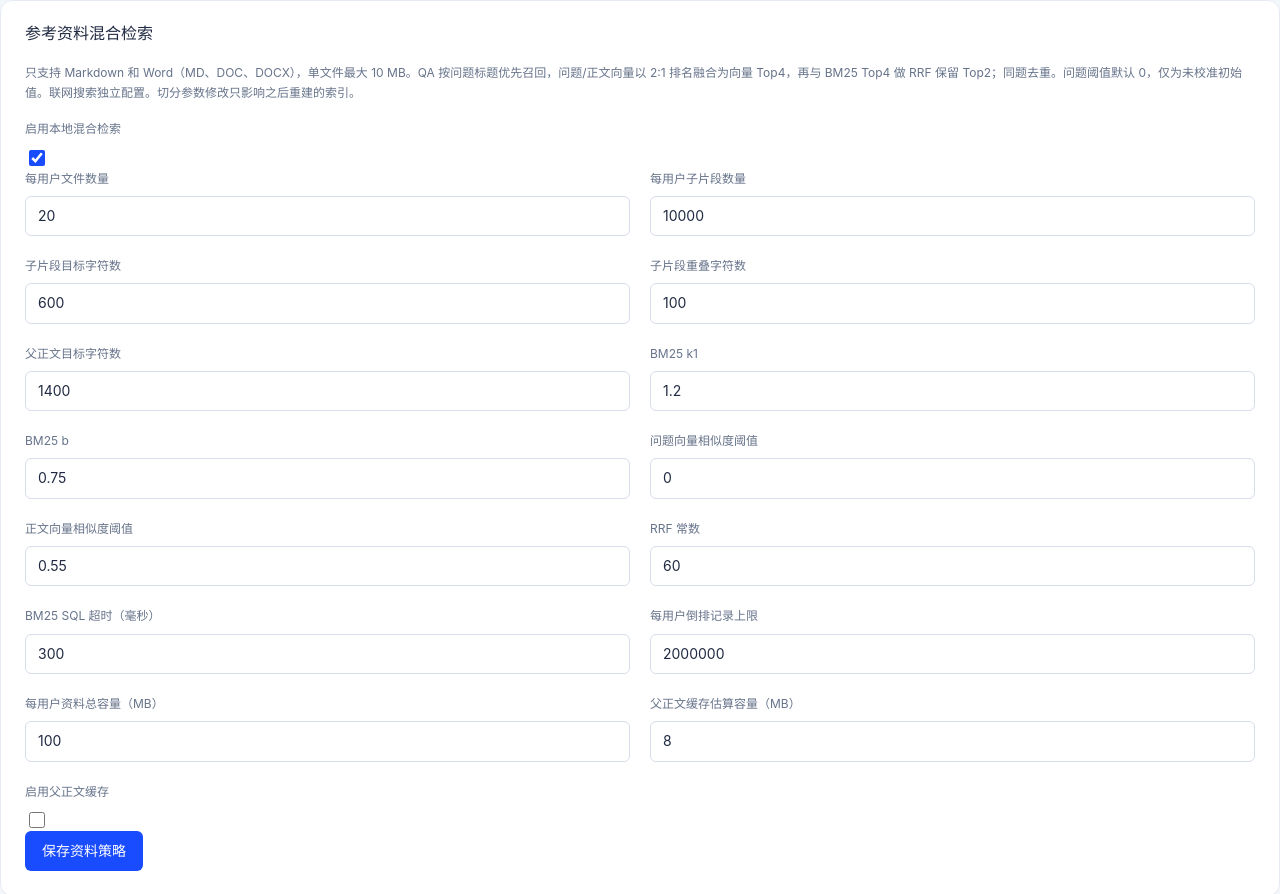
Test: reference upload policy › preserves edited limits and explains failed save
Replace the text in the number field labelled "每用户文件数量" with "30" at (328, 216), box 25,196 -> 630,236
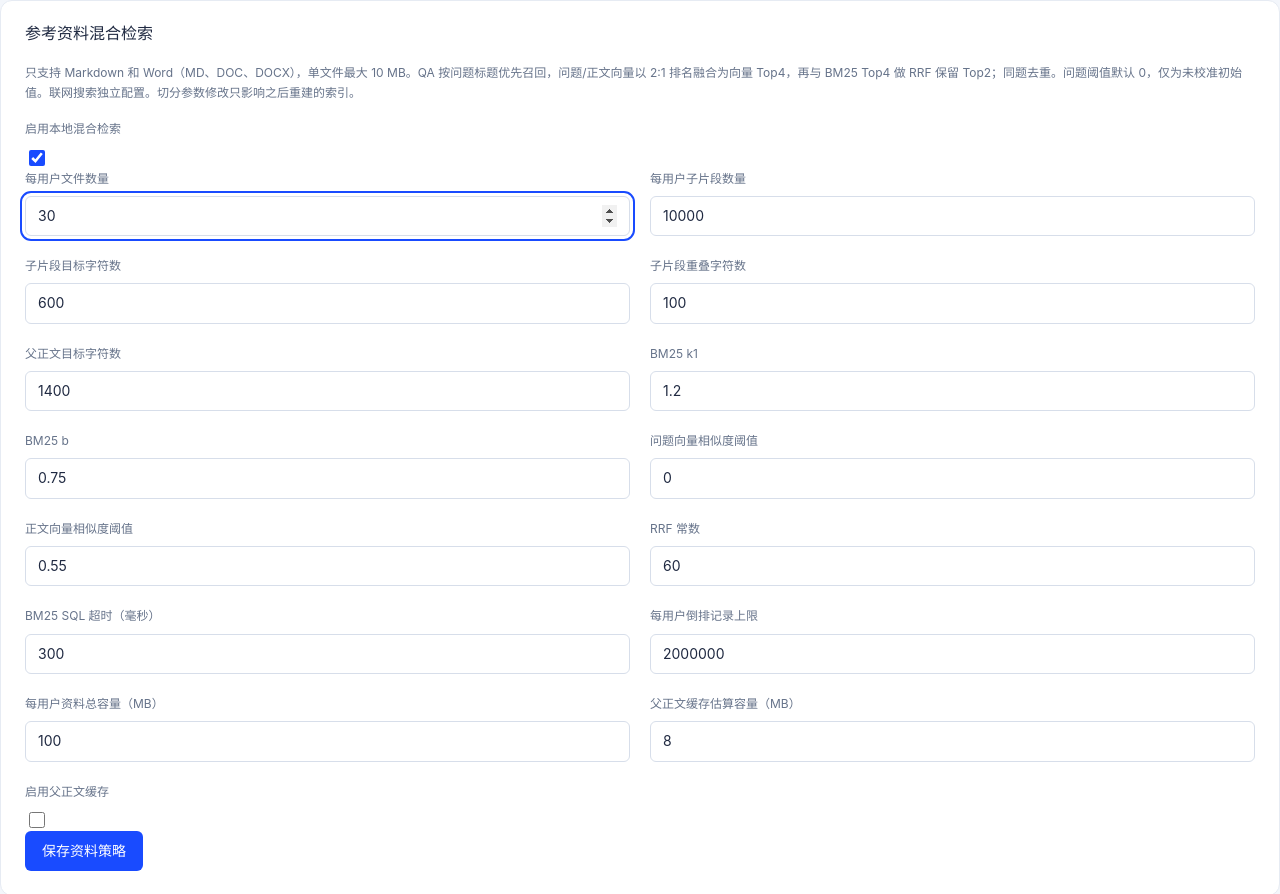
Click the button "保存资料策略" at (84, 851), box 25,831 -> 143,871
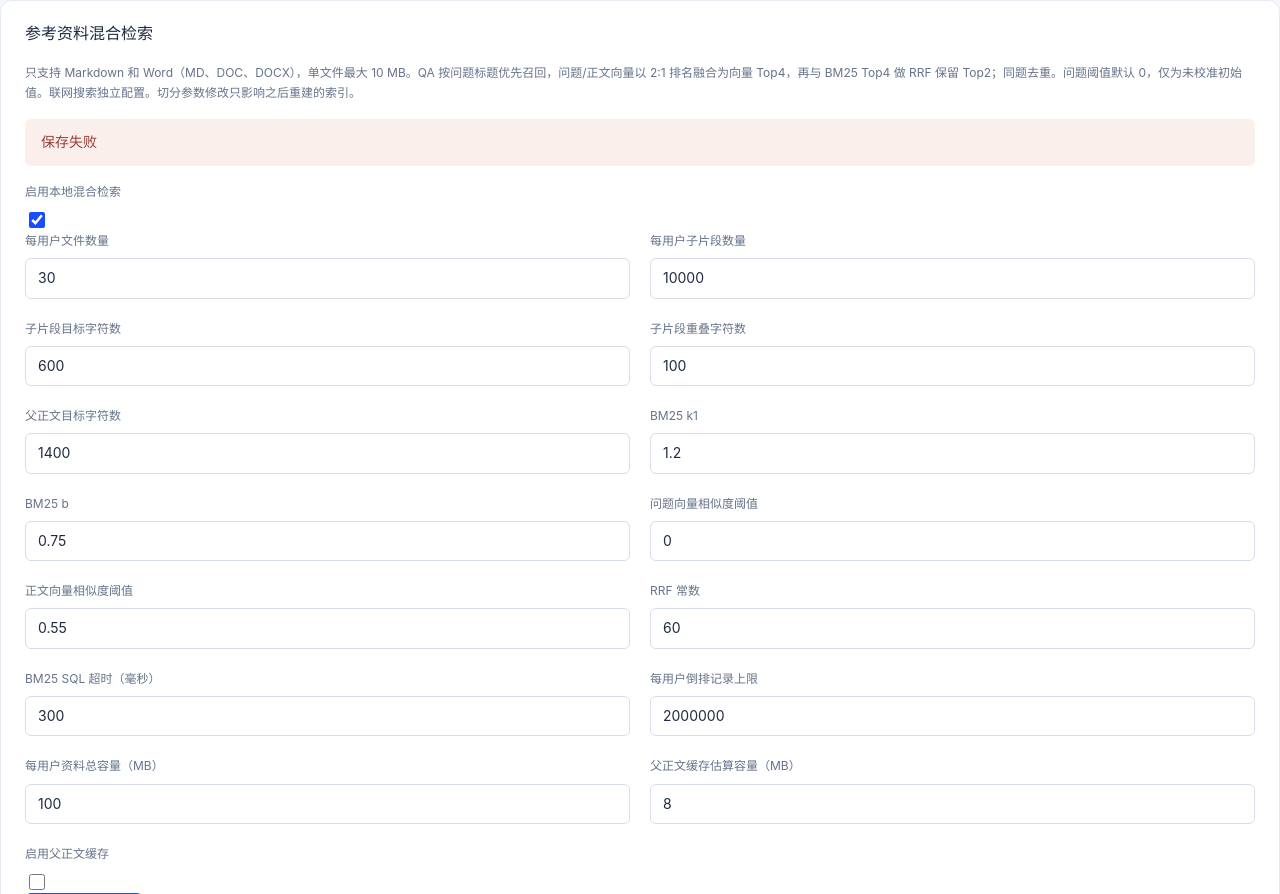
Result: the message reads "保存失败" at 41,133 -> 97,150
